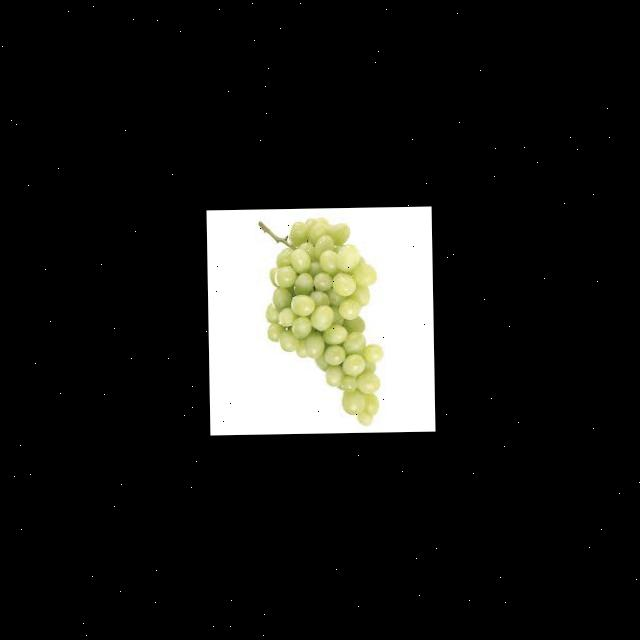grape: (256, 215, 384, 428)
